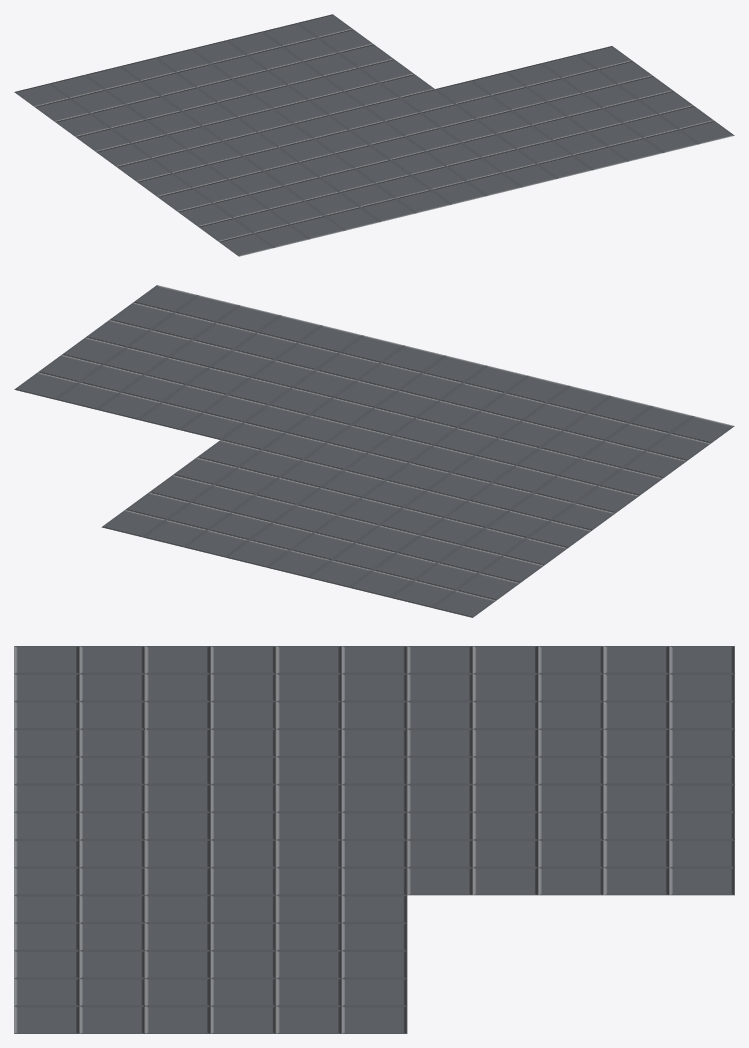
The model's file is Engineering_Floor_Tiles.fbx.
The picture shows the model from 3 angles, top to bottom: view 1: azimuth 30°, elevation 25°; view 2: azimuth 150°, elevation 25°; view 3: azimuth 270°, elevation 25°; orthographic projection. The views are drawn at different scales.
Parts seen in each view (by area): view 1: Engineering_Floor_Tiles; view 2: Engineering_Floor_Tiles; view 3: Engineering_Floor_Tiles.
Part boxes in pixels (box(x1,y1,x2,y2)): Engineering_Floor_Tiles: box(14, 14, 734, 256); Engineering_Floor_Tiles: box(14, 285, 734, 617); Engineering_Floor_Tiles: box(14, 646, 734, 1033).
Size of the model in its own units: 43.72 by 0 by 34.35.
